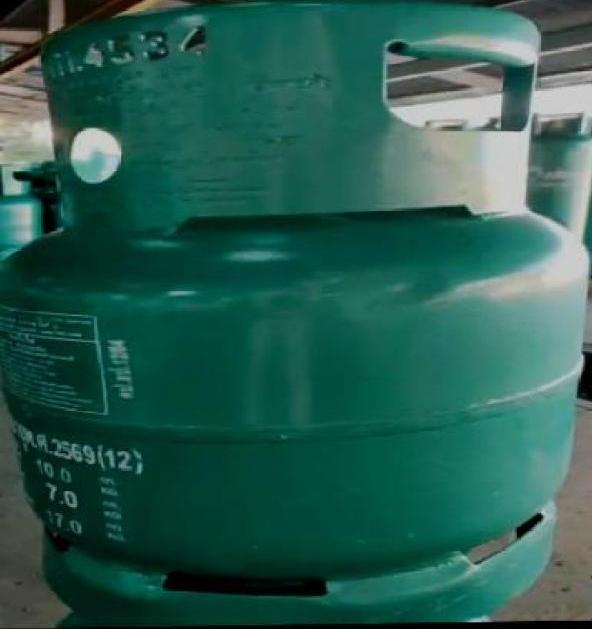cylinder: (0, 1, 592, 629)
